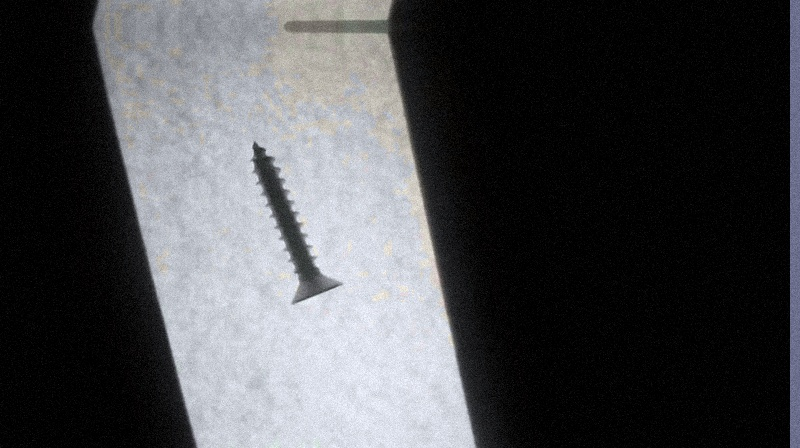S001: (248, 136, 344, 306)
